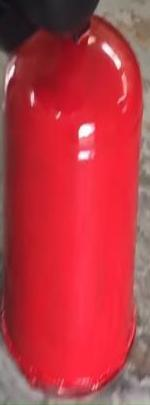cylinder: (1, 1, 150, 405)
